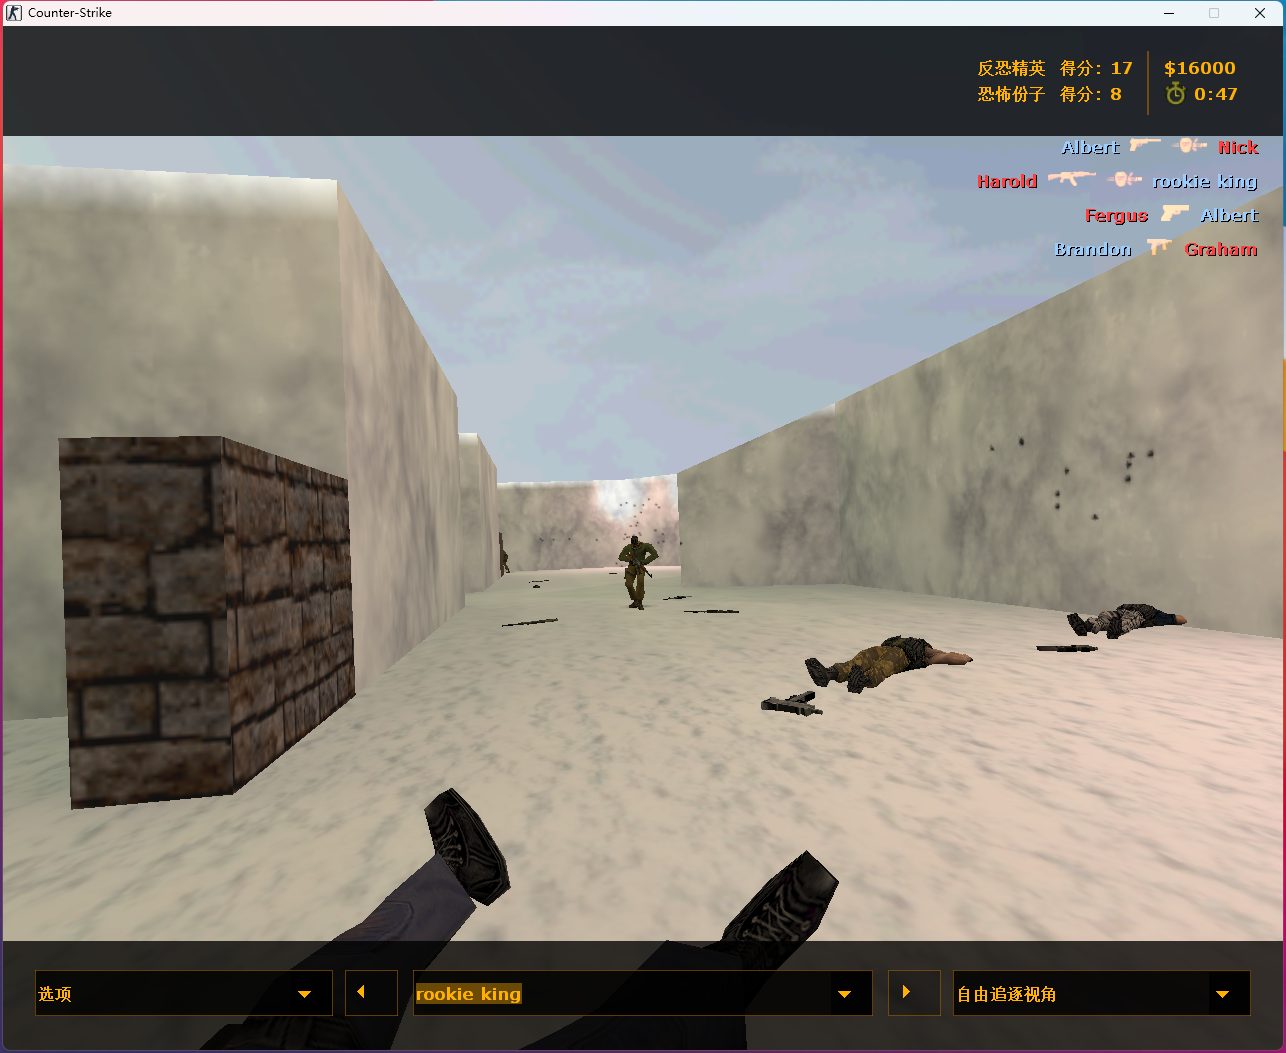T: (617, 534, 658, 611)
dead: (804, 635, 973, 692), (1066, 602, 1188, 640)
weapon: (760, 691, 822, 716), (1033, 641, 1099, 655), (501, 616, 558, 630), (683, 608, 742, 615), (660, 595, 688, 602)
